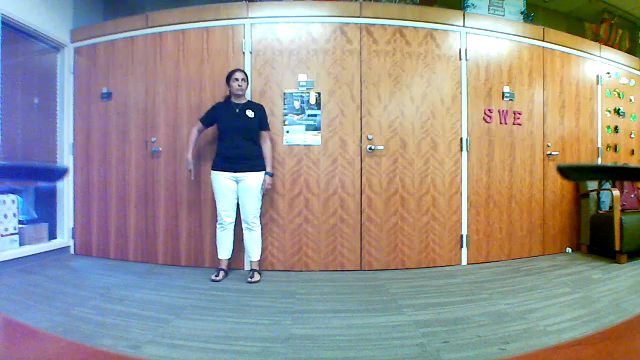down: (180, 154, 199, 187)
